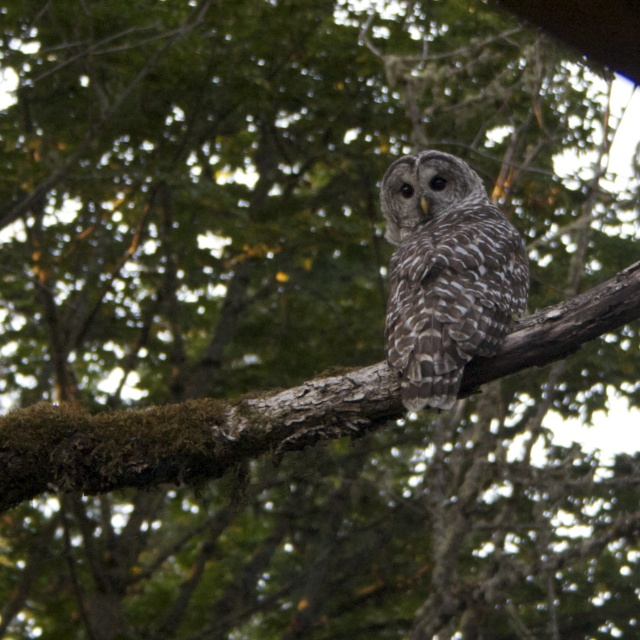Owl: (378, 151, 531, 412)
